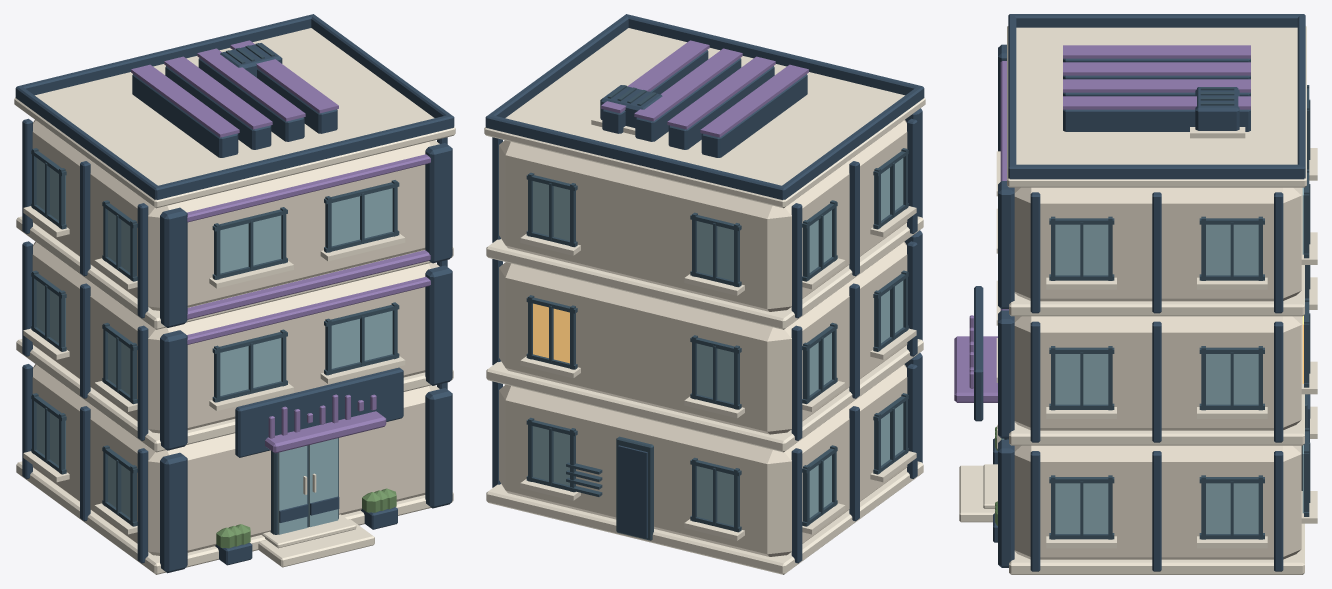
File: media-l03.glb
3 renders of one model, left to right at view 1: azimuth 30°, elevation 25°; view 2: azimuth 150°, elevation 25°; view 3: azimuth 270°, elevation 25°, orthographic. The views are drawn at different scales.
Visible parts, largest first — view 1: media_L03; view 2: media_L03; view 3: media_L03.
Boxes of the visible parts, <box> form: media_L03: <box>14,14,455,574</box>; media_L03: <box>484,14,925,574</box>; media_L03: <box>954,14,1317,574</box>.
Bounding box in the file's own units: 5.77 × 6.99 × 5.39.
